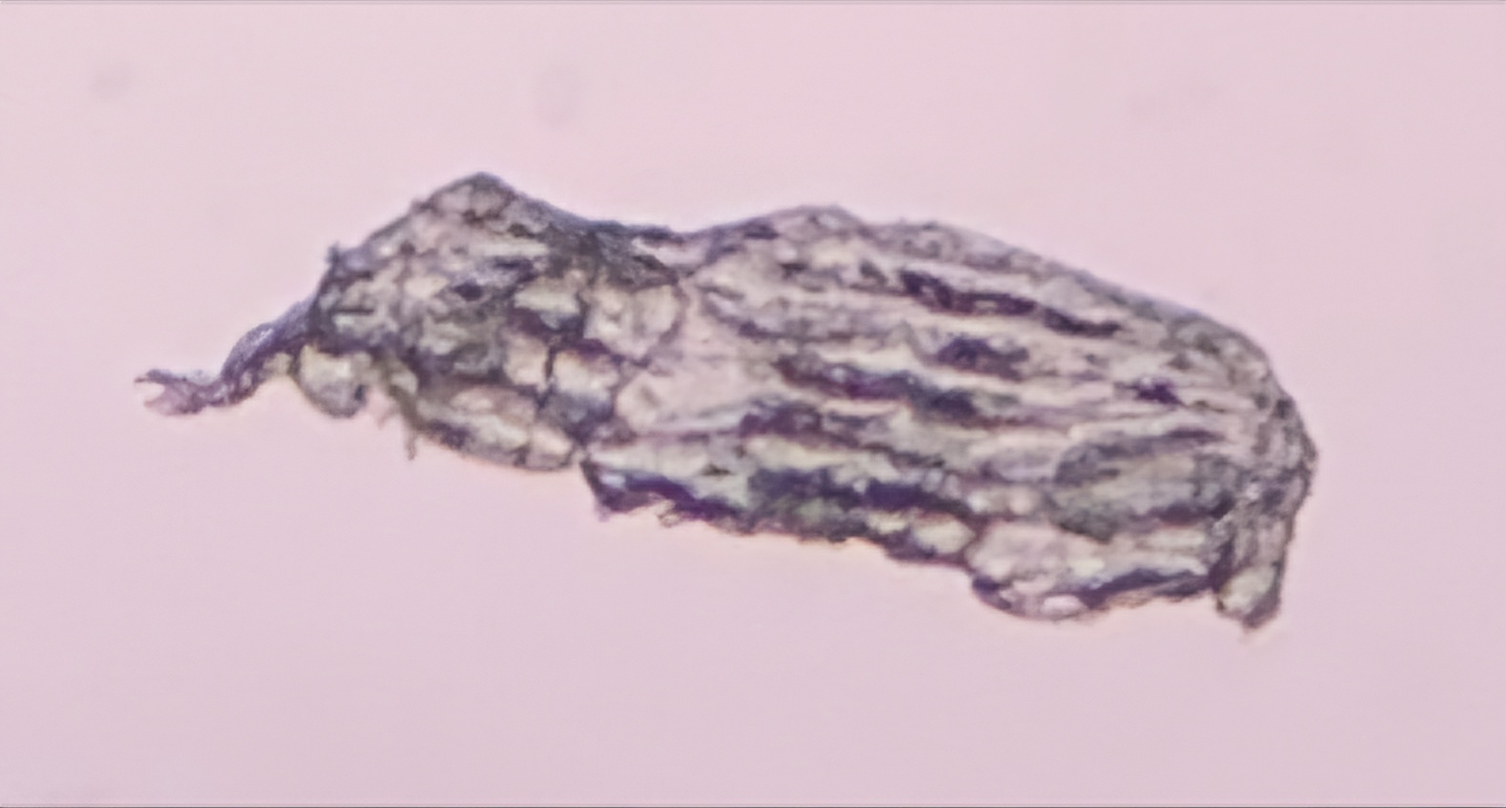microplastic: (126, 165, 1324, 646)
